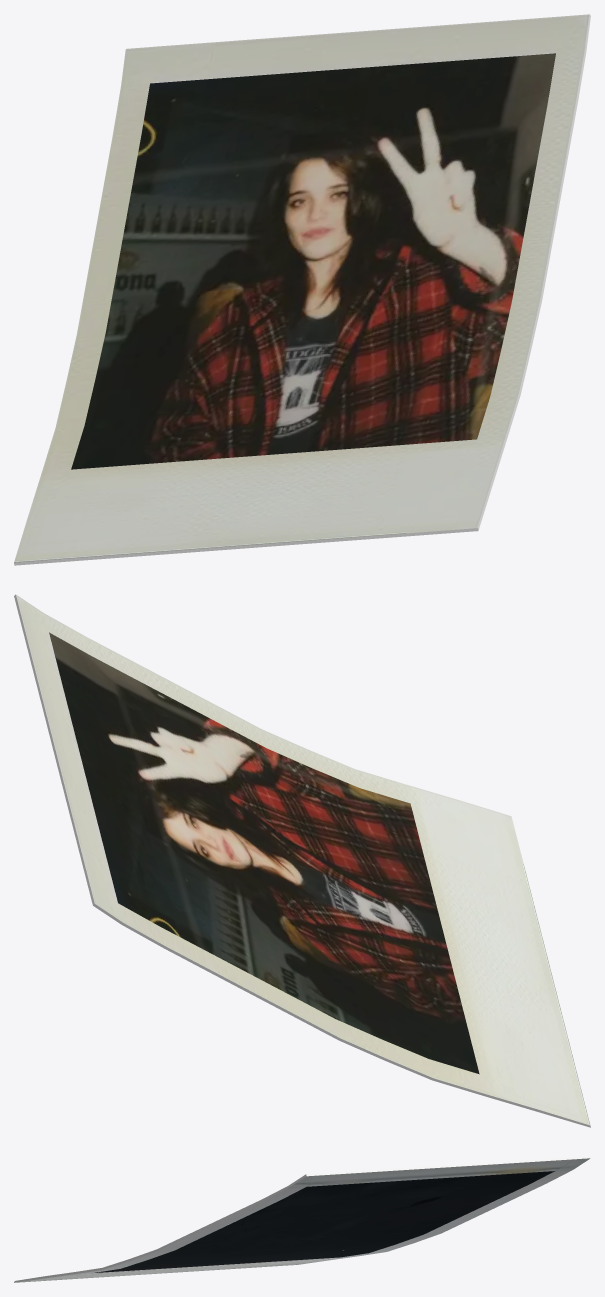
The model's file is polaroid.glb.
3 renders of one model, top to bottom at view 1: azimuth 30°, elevation 25°; view 2: azimuth 150°, elevation 25°; view 3: azimuth 270°, elevation 25°, orthographic. The views are drawn at different scales.
Visible parts, largest first — view 1: Object_3, Object_5; view 2: Object_3, Object_5; view 3: Object_4, Object_5.
Part boxes in pixels (bbox=[...]): Object_3: bbox=[71, 53, 555, 469]; Object_5: bbox=[14, 14, 590, 565]; Object_3: bbox=[49, 632, 479, 1074]; Object_5: bbox=[14, 594, 590, 1127]; Object_4: bbox=[95, 1171, 554, 1272]; Object_5: bbox=[14, 1156, 590, 1282].
Size of the model in its own units: 27.2 by 18.12 by 31.5.
Materials: 3 (3 with a texture image).
